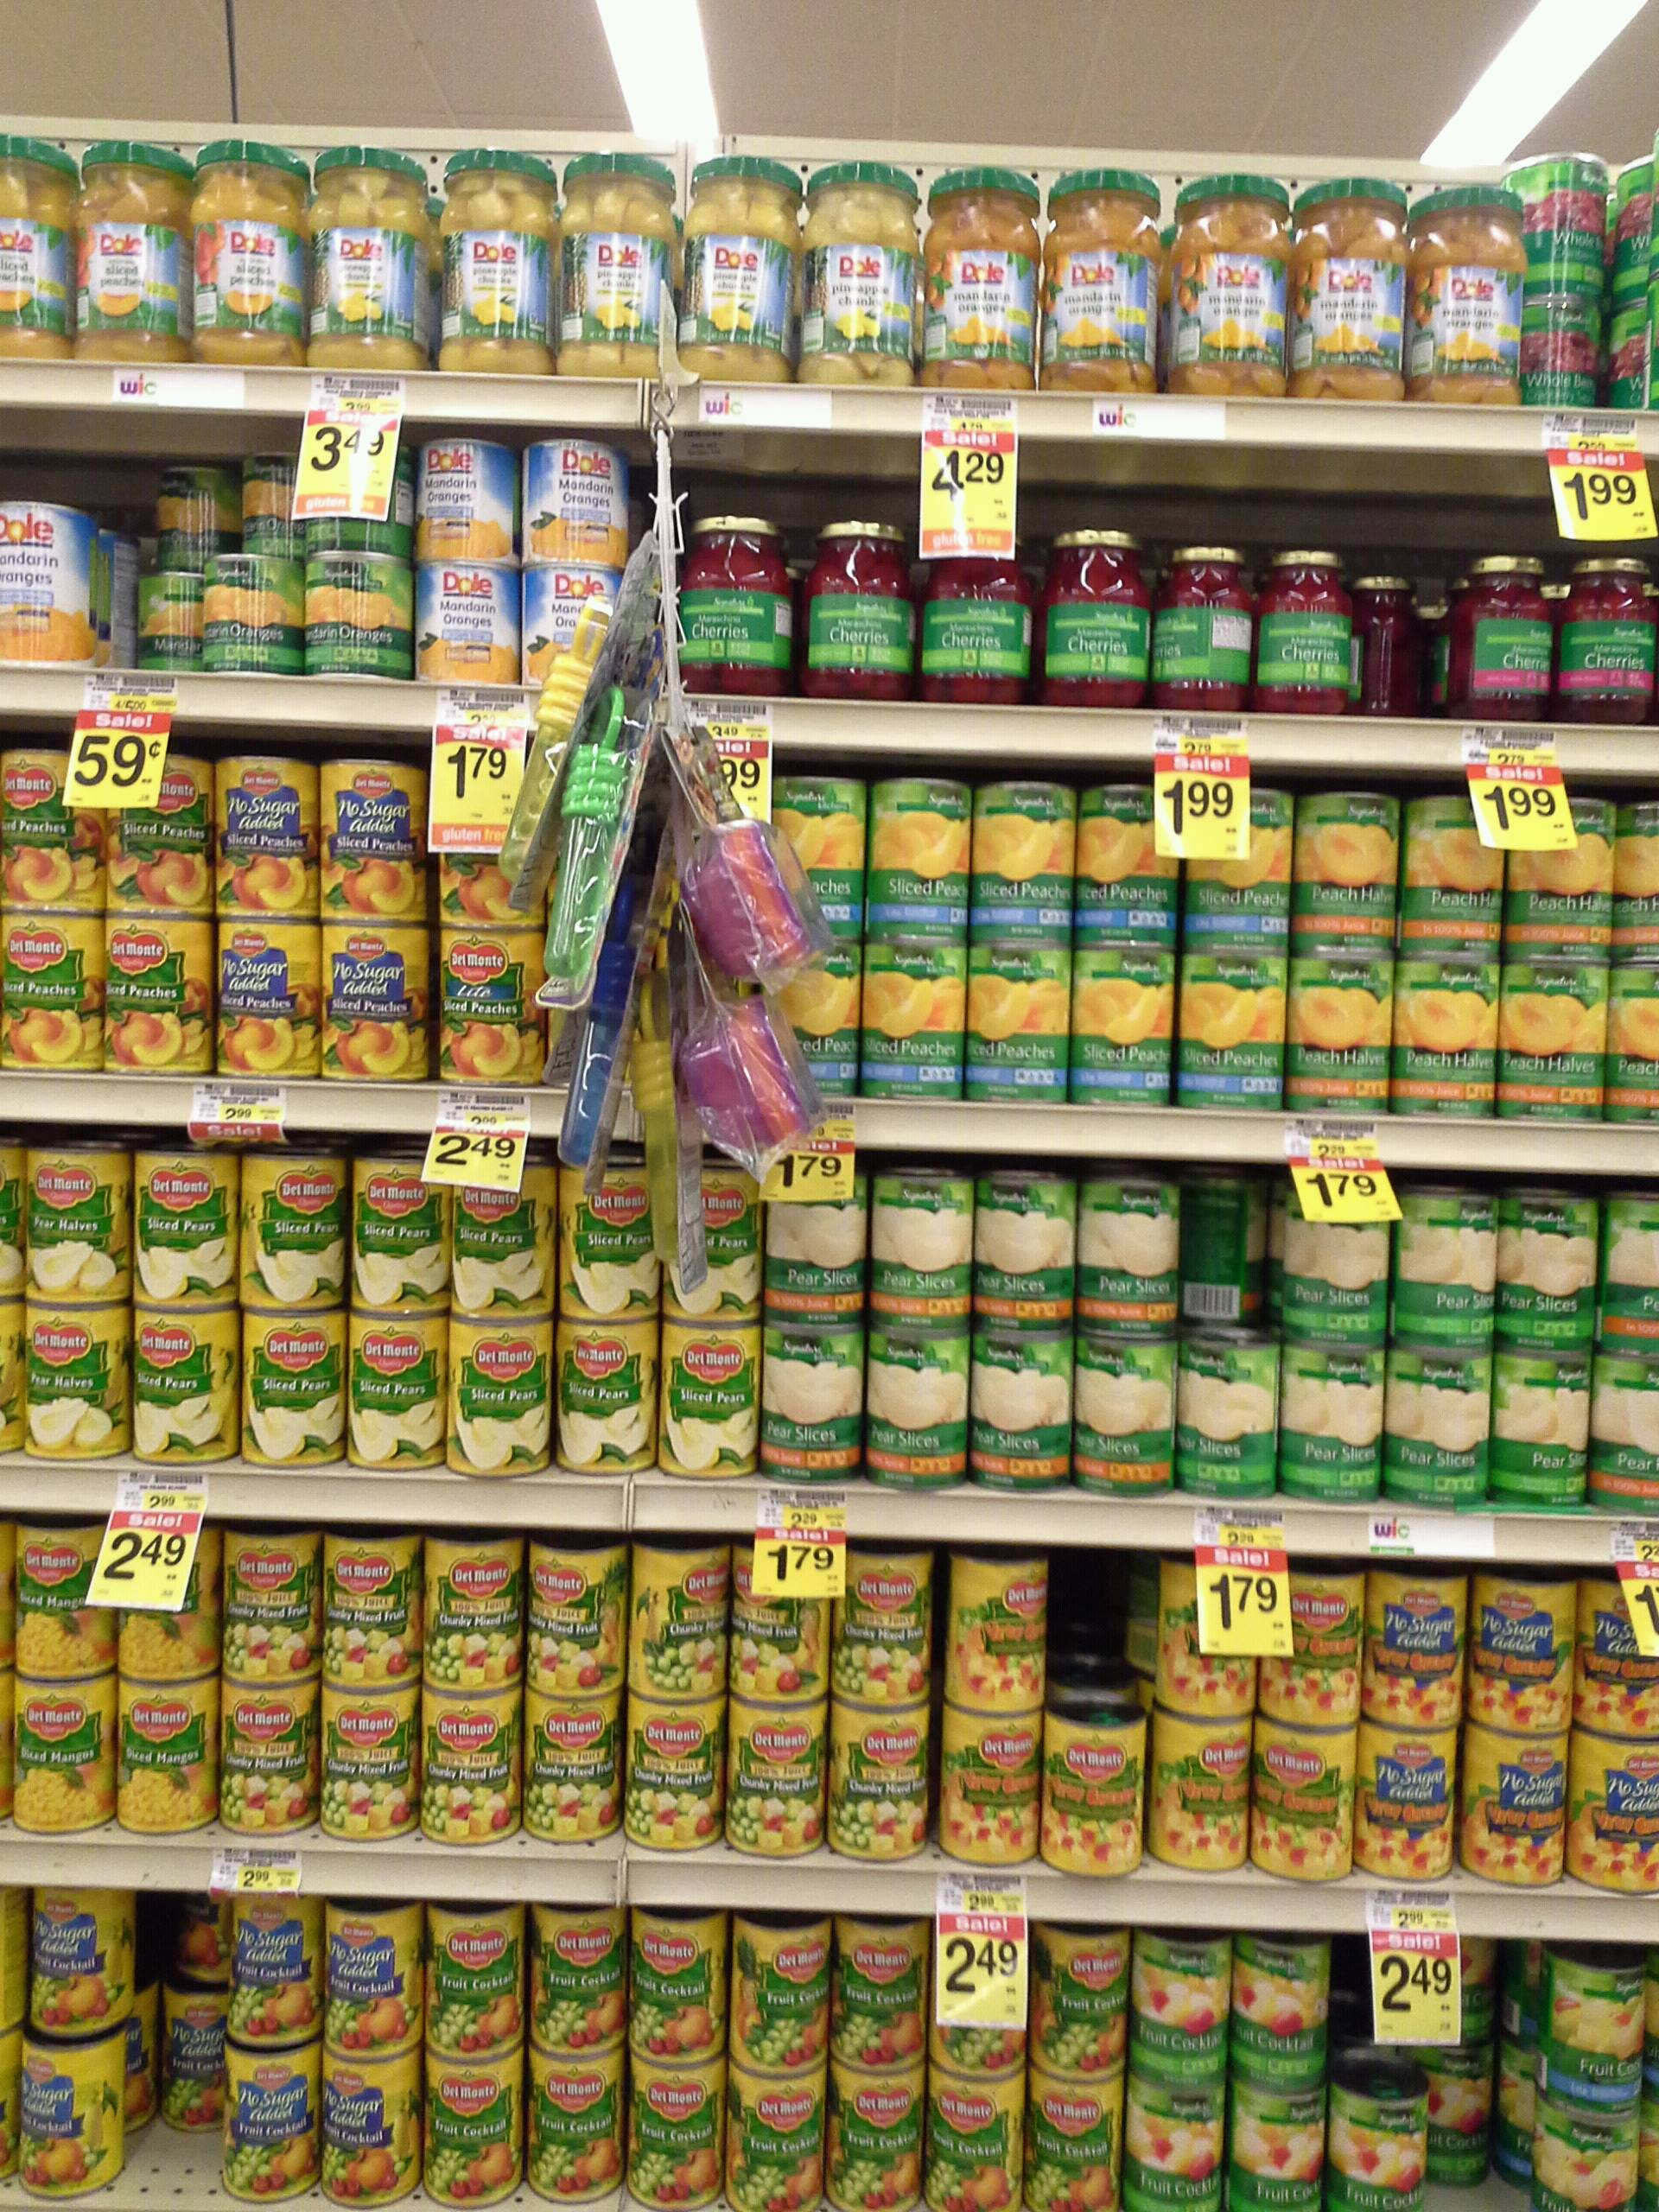Misplacement: (1342, 554, 1460, 719)
